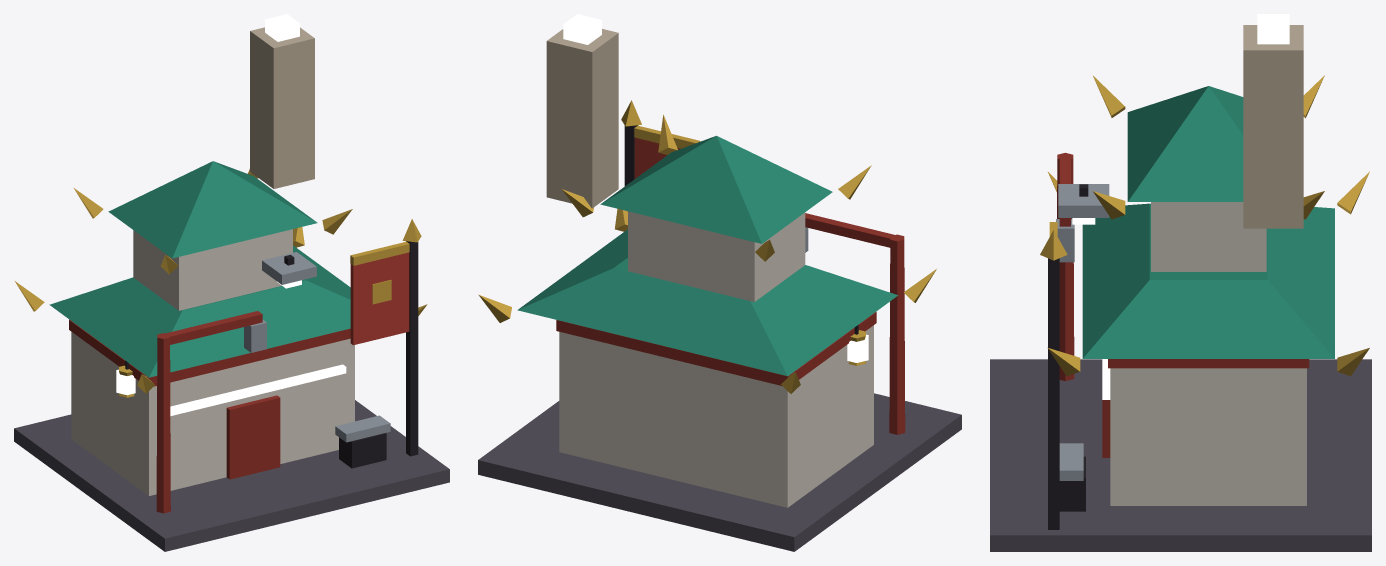
Rendered from workshop_t3.glb.
3 views of the same model, side by side, from view 1: azimuth 30°, elevation 25°; view 2: azimuth 150°, elevation 25°; view 3: azimuth 270°, elevation 25° (orthographic). The views are drawn at different scales.
Parts seen in each view (by area): view 1: body, glow; view 2: body, glow; view 3: body, glow.
Boxes of the visible parts, x1,y1,x2,y2 form: body: (14,27,449,551); glow: (116,14,346,416); body: (478,29,961,551); glow: (563,14,868,362); body: (990,25,1371,551); glow: (1072,14,1289,399).
Size of the model in its own units: 1.81 by 2.37 by 1.65.
